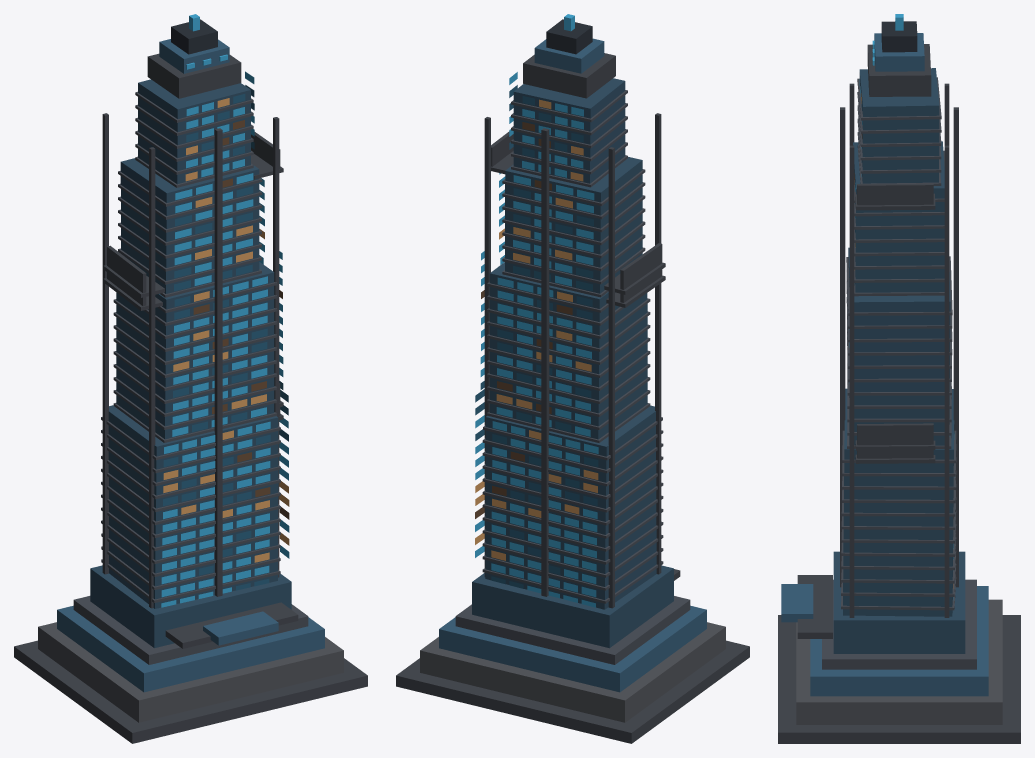
Rendered from eish-hq.glb.
The picture shows the model from 3 angles, left to right: view 1: azimuth 30°, elevation 25°; view 2: azimuth 150°, elevation 25°; view 3: azimuth 270°, elevation 25°; orthographic projection. The views are drawn at different scales.
Visible parts, largest first — view 1: EishHQ; view 2: EishHQ; view 3: EishHQ.
Part boxes in pixels (bbox=[...]): EishHQ: bbox=[14, 14, 367, 743]; EishHQ: bbox=[396, 14, 749, 743]; EishHQ: bbox=[778, 14, 1020, 743].
Bounding box in the file's own units: 5.4 × 14.34 × 4.7.
